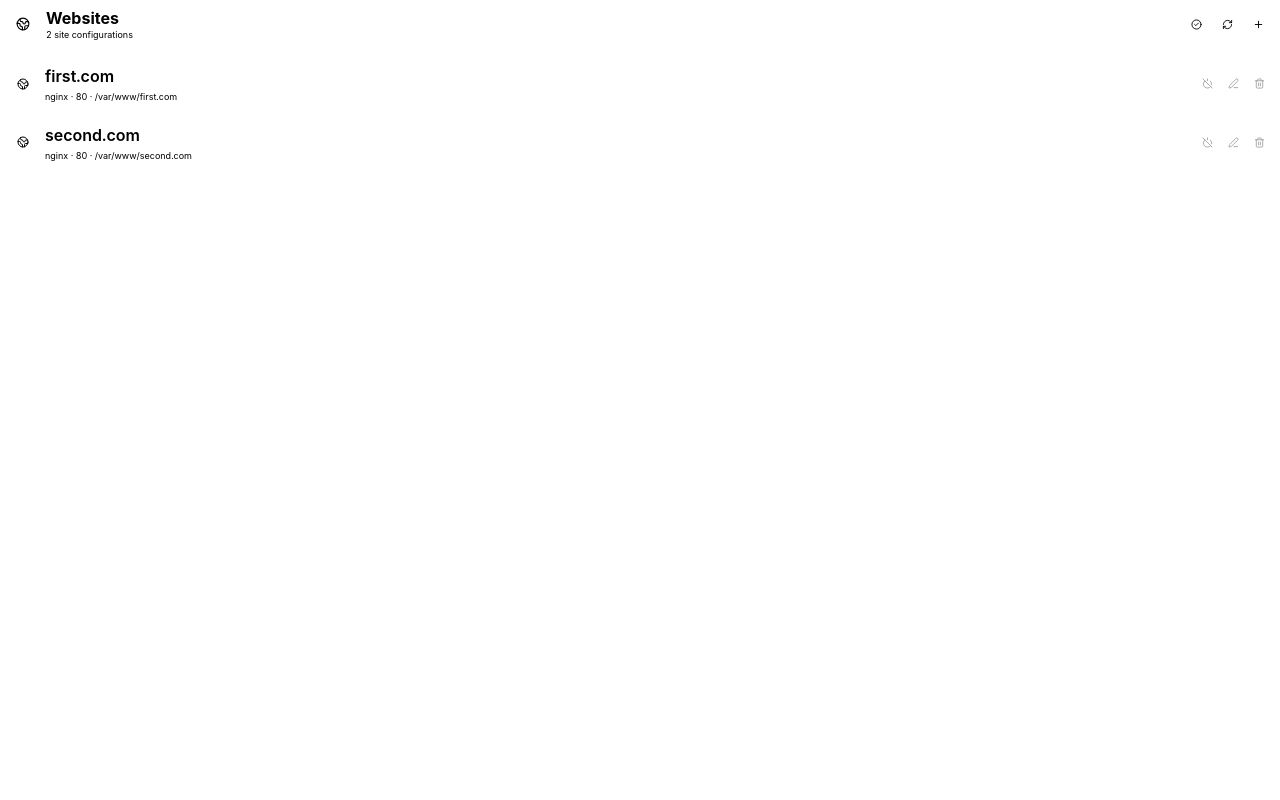
WebsitePanel discard prompt › asks before loading another site over a dirty draft
Click the button titled "Edit site" in the row of "· /var/www/first.com".
click(1233, 84)  # box [1221,72,1245,96]
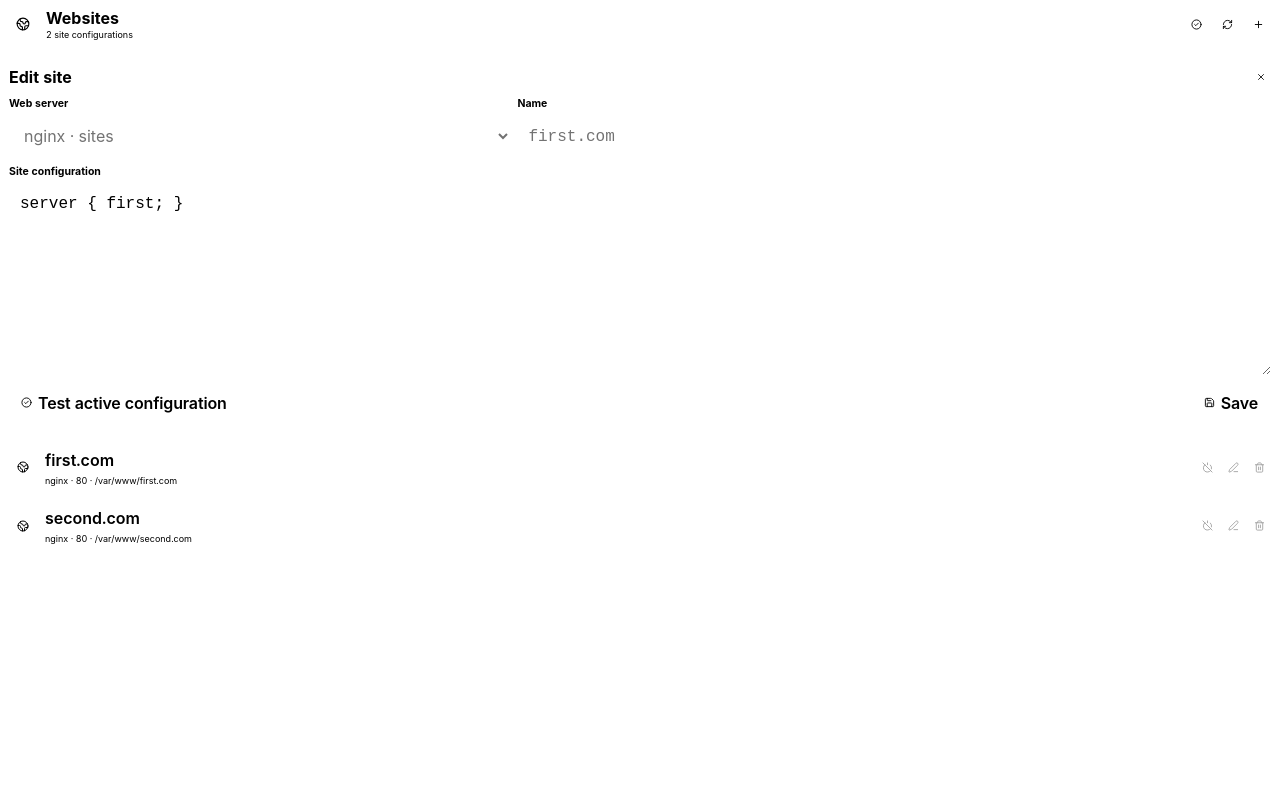
Replace the text in the text box with class "site-config-input" with "dirty" at (640, 280), box [9,184,1271,374]
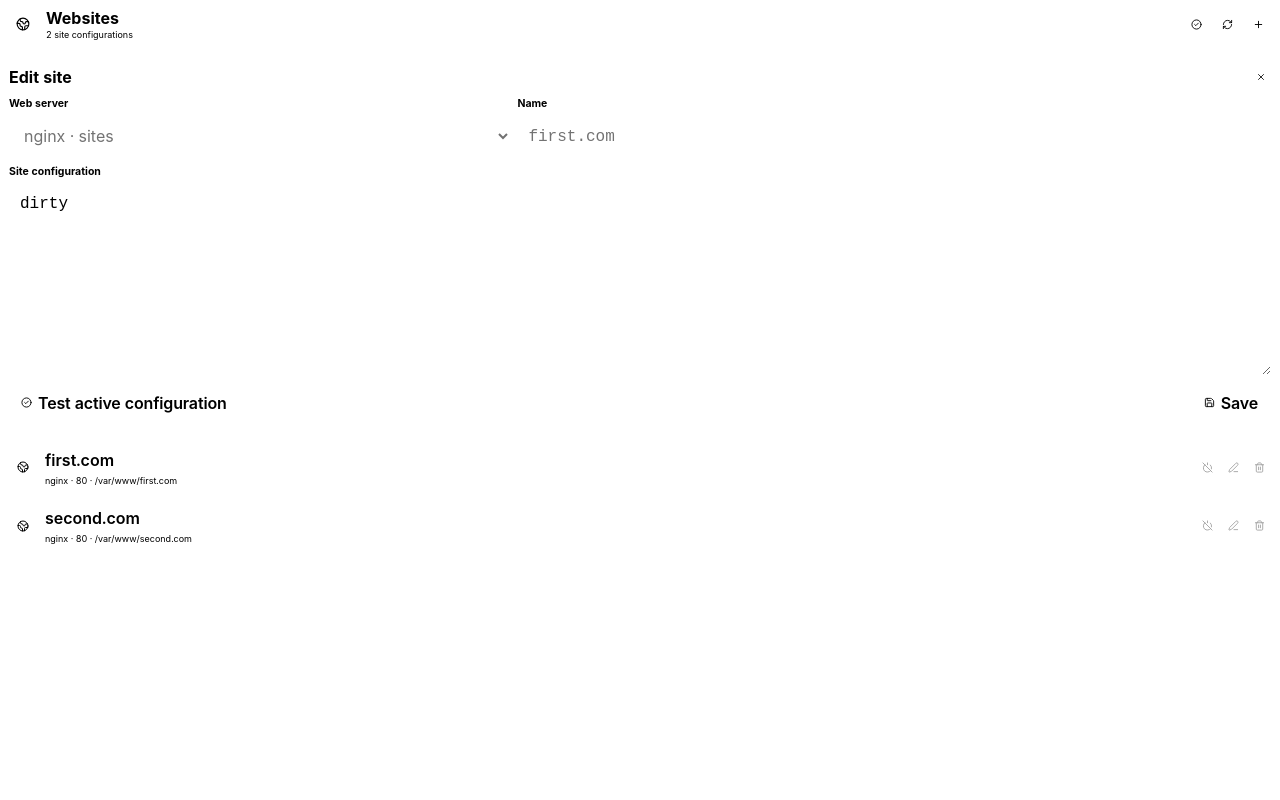
Click the button titled "Edit site" in the row of "· /var/www/second.com".
click(1233, 526)  # box [1221,514,1245,538]
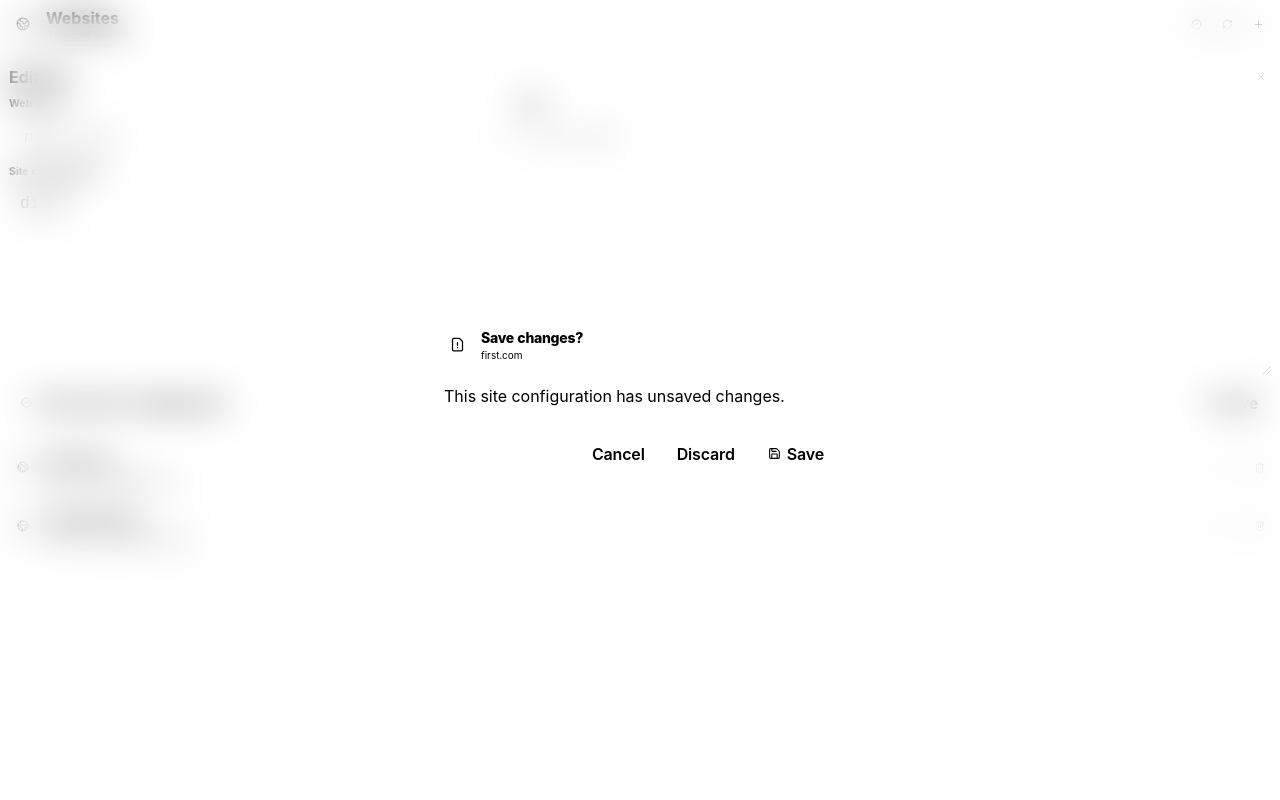
Click the button "Discard".
click(706, 454)  # box [665,434,747,472]
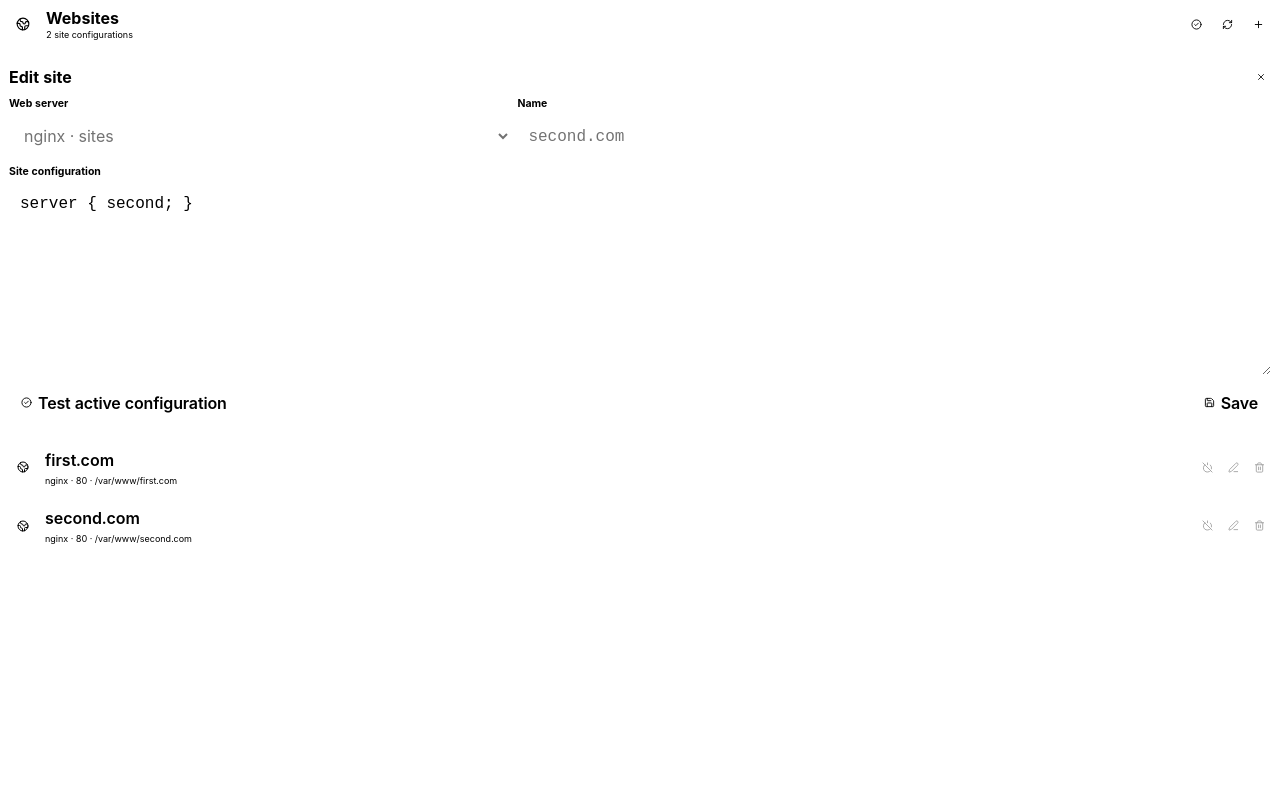
Expected: the text box with class "site-config-input" holds "server { second; }", [9,184,1271,374]
